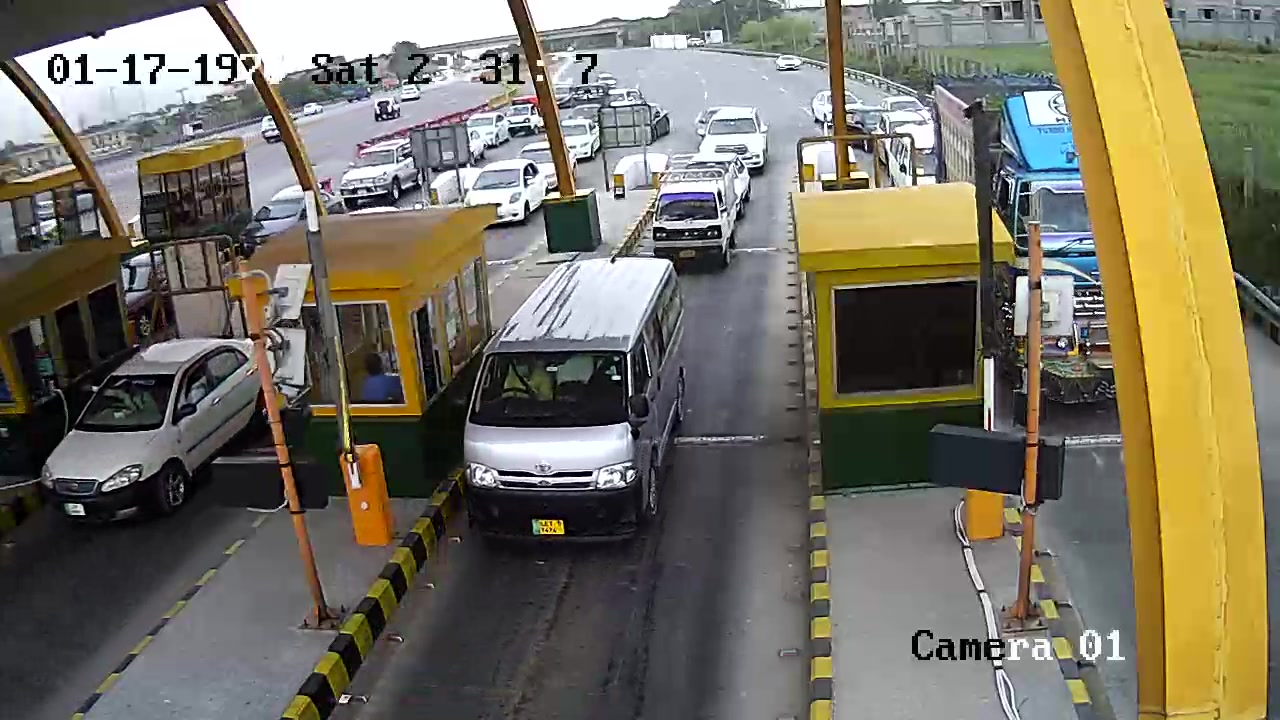F3: (454, 246, 699, 551)
